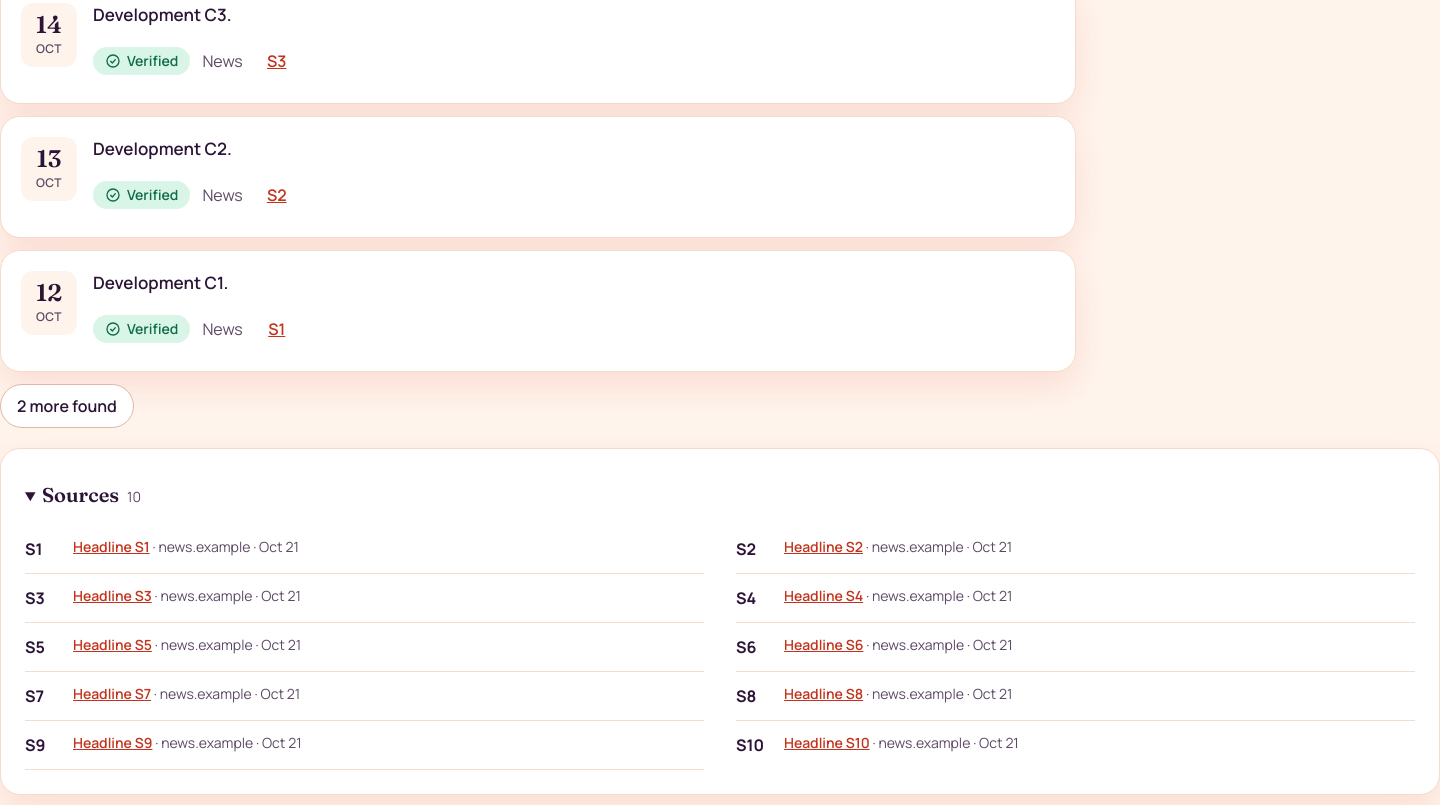
Scenario: BriefingView › shows at most the 8 selected developments, with the rest behind 'more found'
This screenshot has width=1440, height=805.
(page scrolled)
Click the button "2 more found".
click(67, 406)  # box [0,384,134,428]
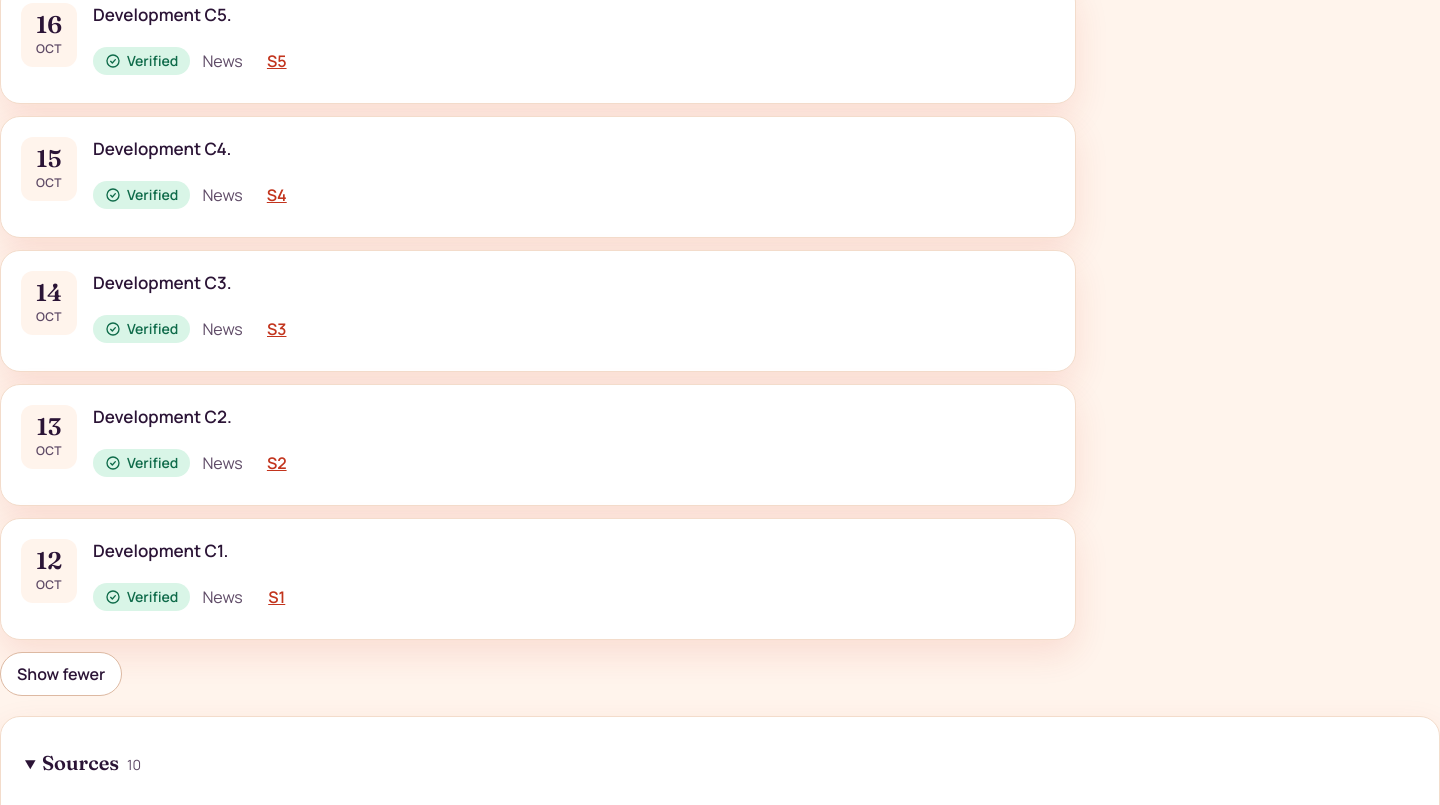
Now the button "Show fewer" is expanded, box [0,652,122,696]
